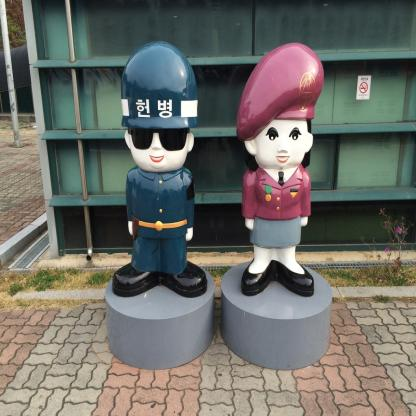Helmet: (122, 40, 197, 135)
